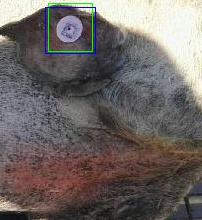text: (48, 3, 92, 51)
